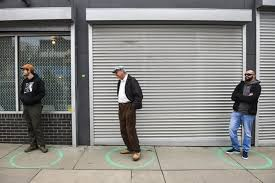Good: (113, 64, 261, 161), (17, 61, 142, 159)
